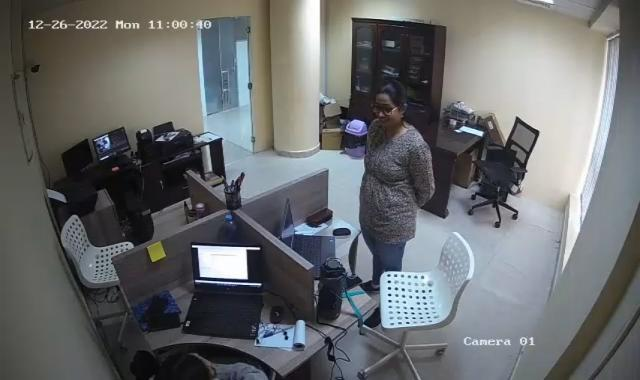no_hairnet: (145, 347, 221, 380), (371, 78, 406, 127)
